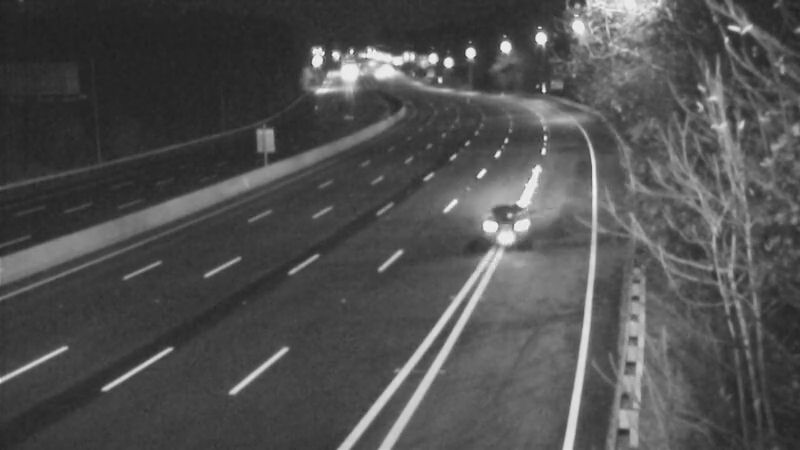vehicle: (471, 186, 551, 266)
